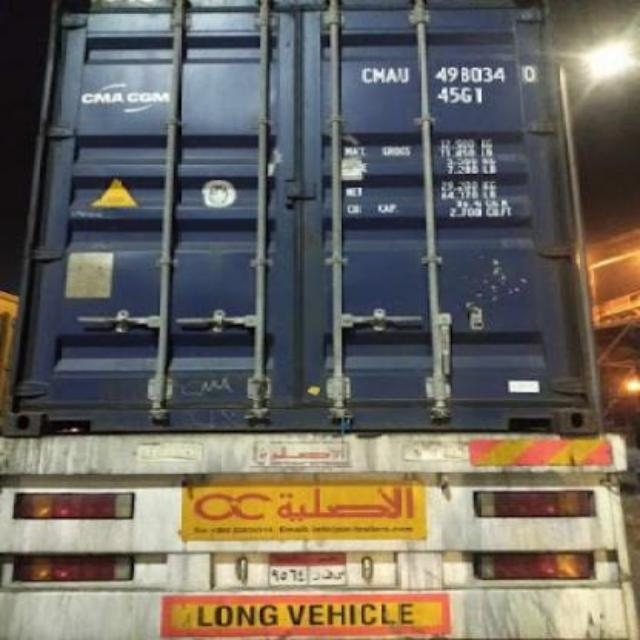0: (471, 58, 484, 88), (524, 64, 536, 78)
3: (480, 64, 492, 85)
4: (488, 61, 506, 85), (434, 64, 450, 86)
8: (454, 64, 472, 84)
9: (450, 64, 458, 82)
A: (384, 66, 398, 86)
C: (356, 64, 374, 85)
M: (370, 65, 386, 85)
U: (396, 59, 414, 86)
